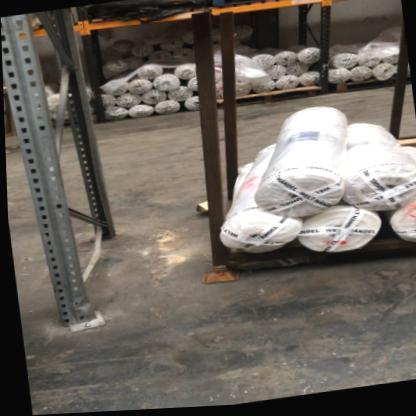vertical_damage: (52, 297, 107, 337)
